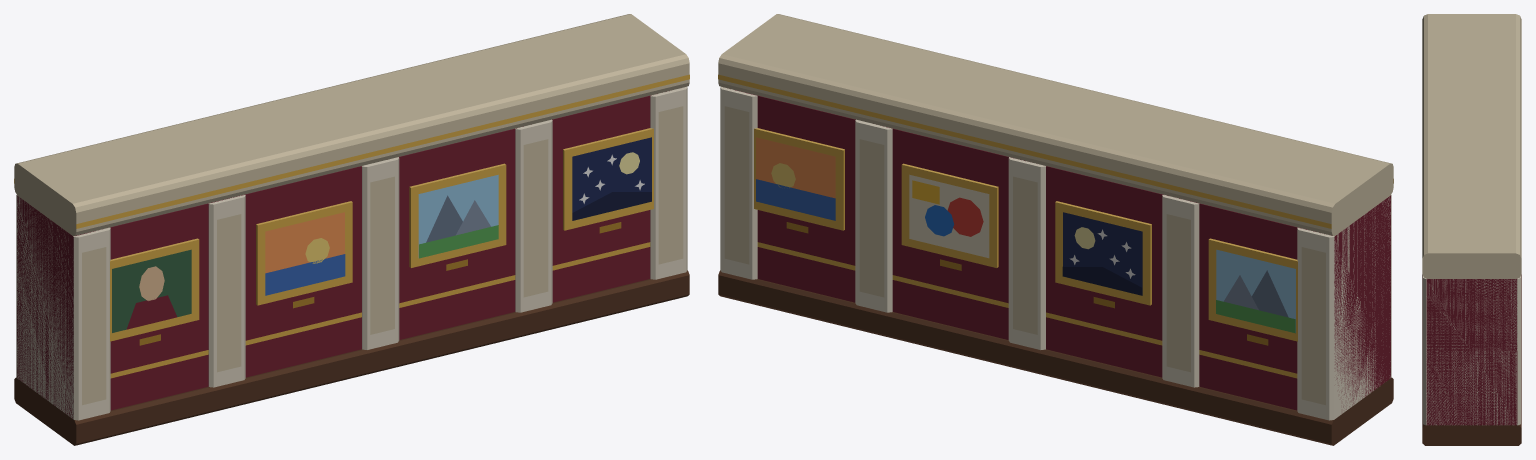
File: museum-border.glb
3 views of the same model, side by side, from view 1: azimuth 30°, elevation 25°; view 2: azimuth 150°, elevation 25°; view 3: azimuth 270°, elevation 25° (orthographic). The views are drawn at different scales.
Visible parts, largest first — view 1: museum-border; view 2: museum-border; view 3: museum-border.
Boxes of the visible parts, box(x1,y1,x2,y2) form: museum-border: box(14, 14, 689, 445); museum-border: box(718, 14, 1393, 445); museum-border: box(1422, 14, 1521, 445).
Bounding box in the file's own units: 4 × 1.5 × 0.702.
